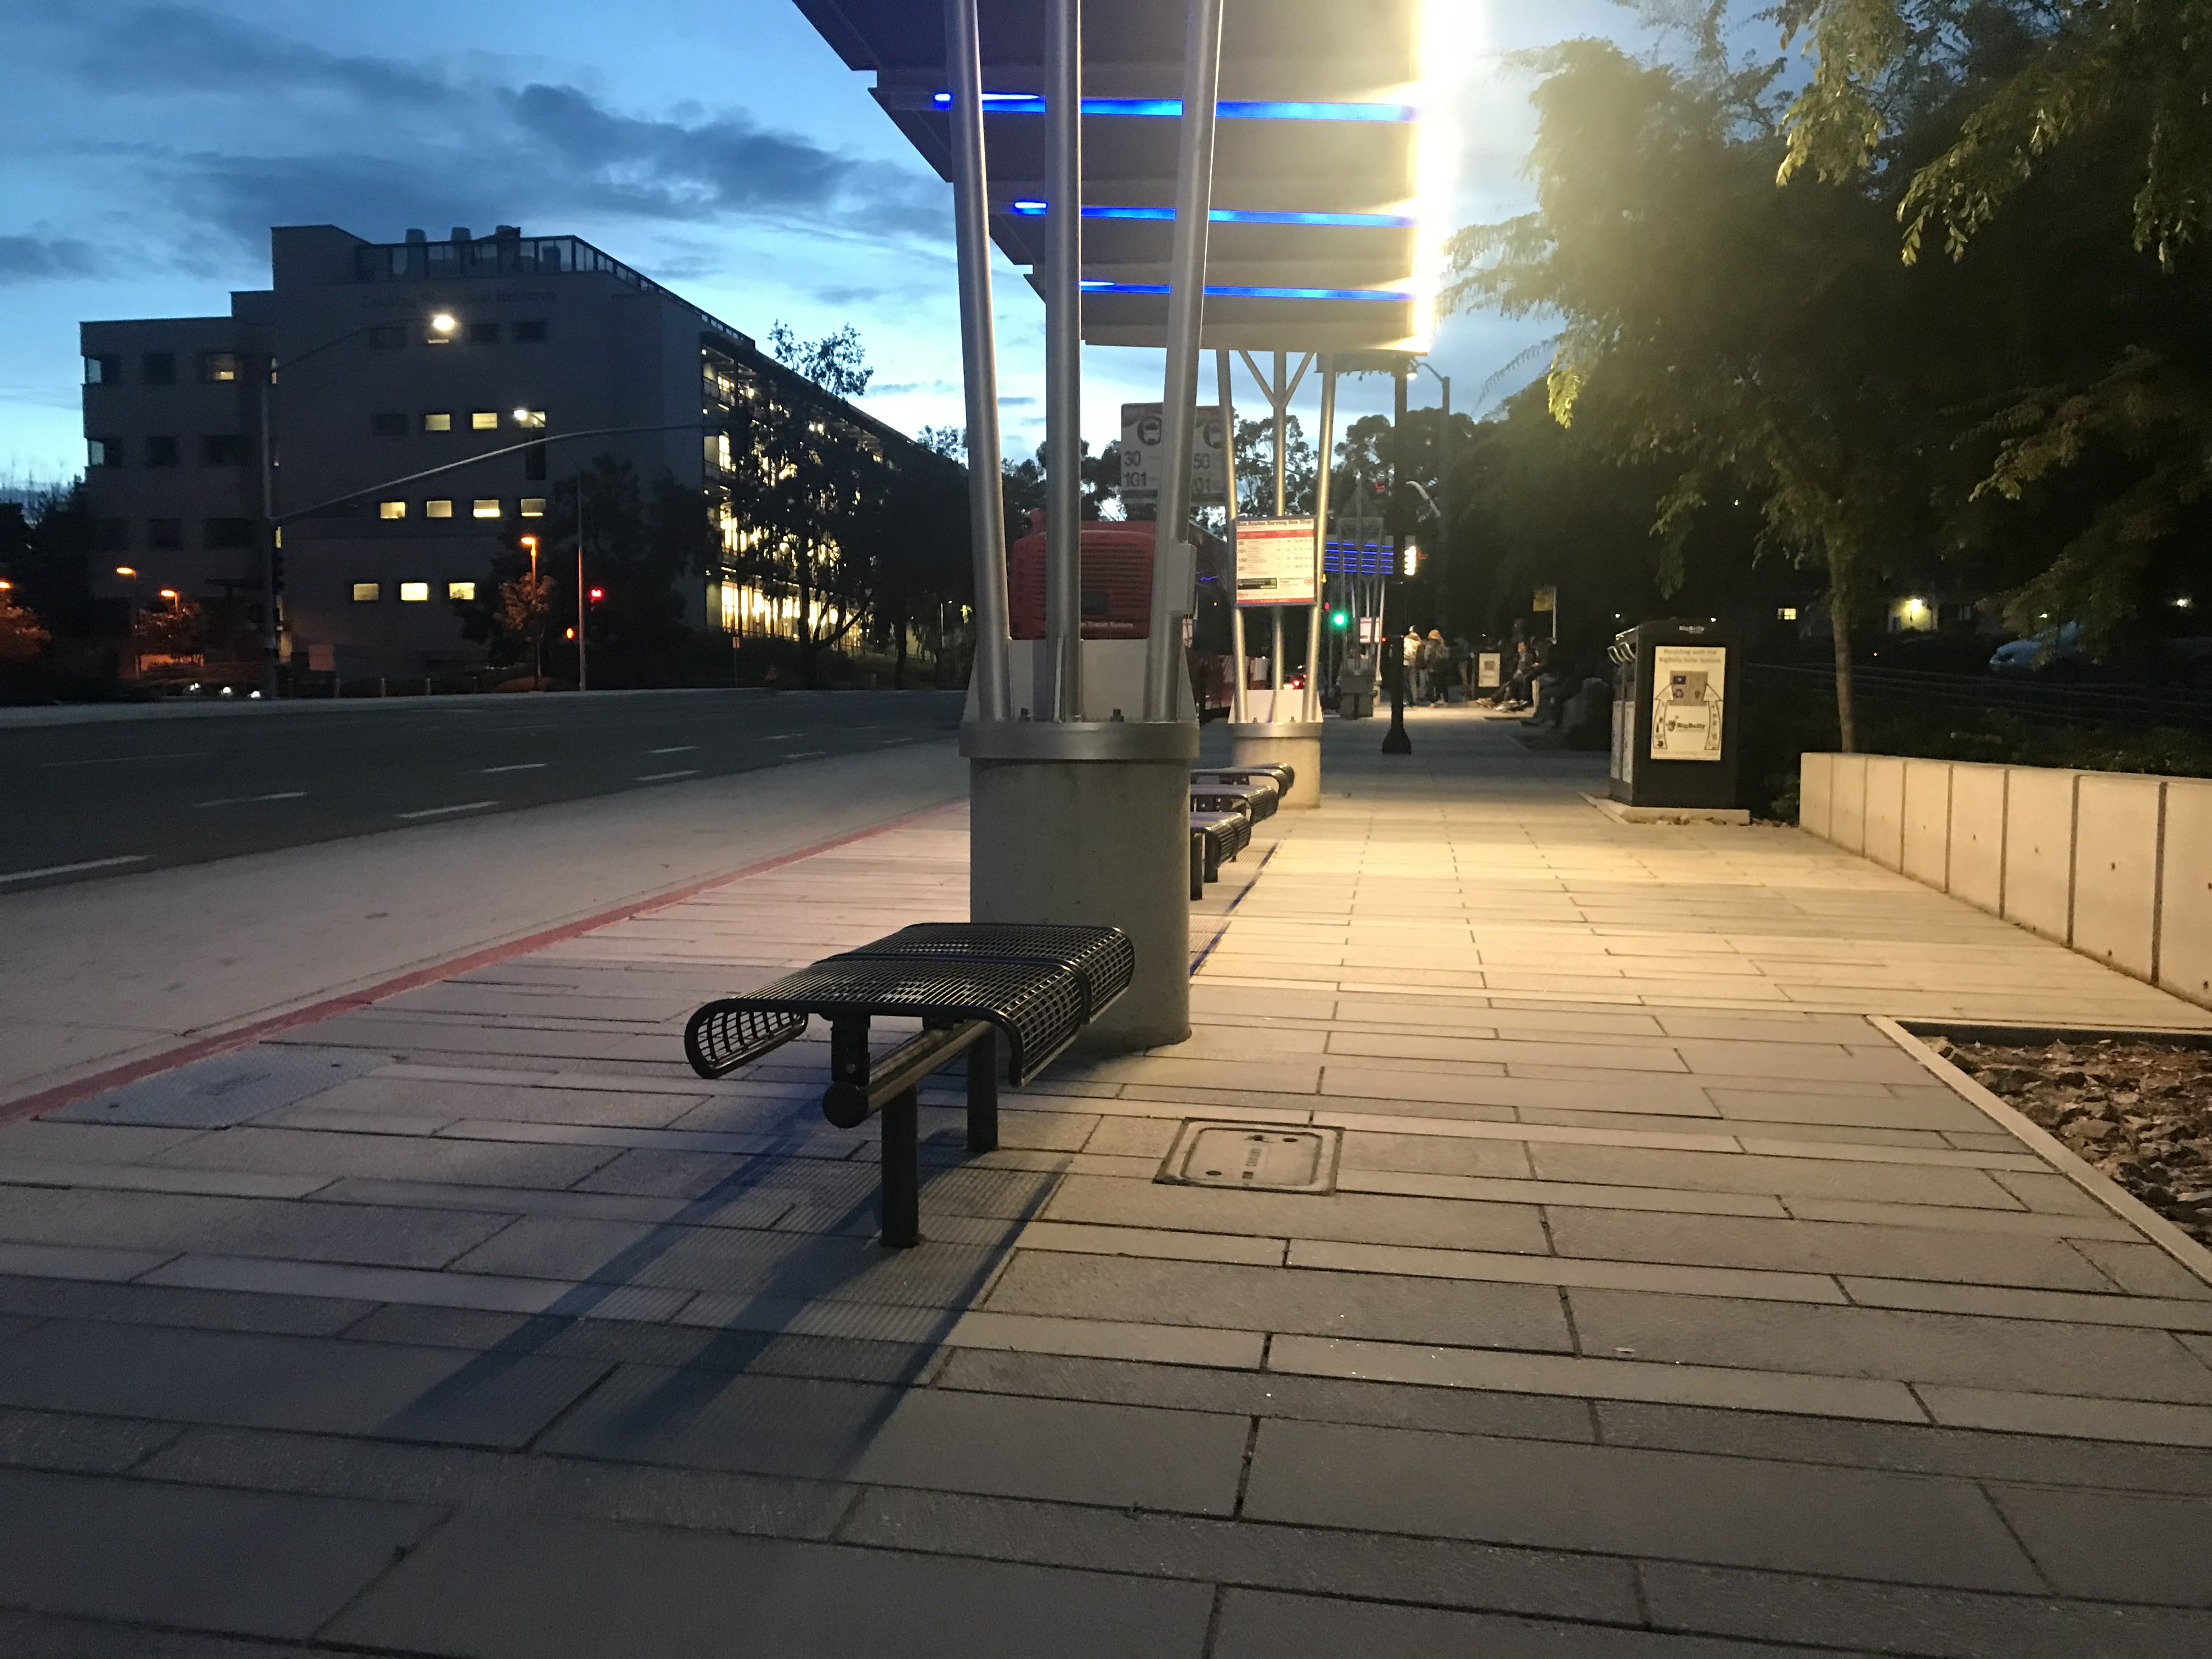Edge: (1865, 1019, 2210, 1042), (1928, 1053, 1998, 1084), (2005, 1115, 2062, 1143), (2038, 1147, 2106, 1169), (1966, 1087, 2029, 1112), (2069, 1169, 2130, 1192), (2174, 1241, 2210, 1274), (2104, 1194, 2161, 1215), (2142, 1218, 2196, 1239)
Obstacle: (693, 9, 1453, 1267), (1611, 608, 1747, 817)
